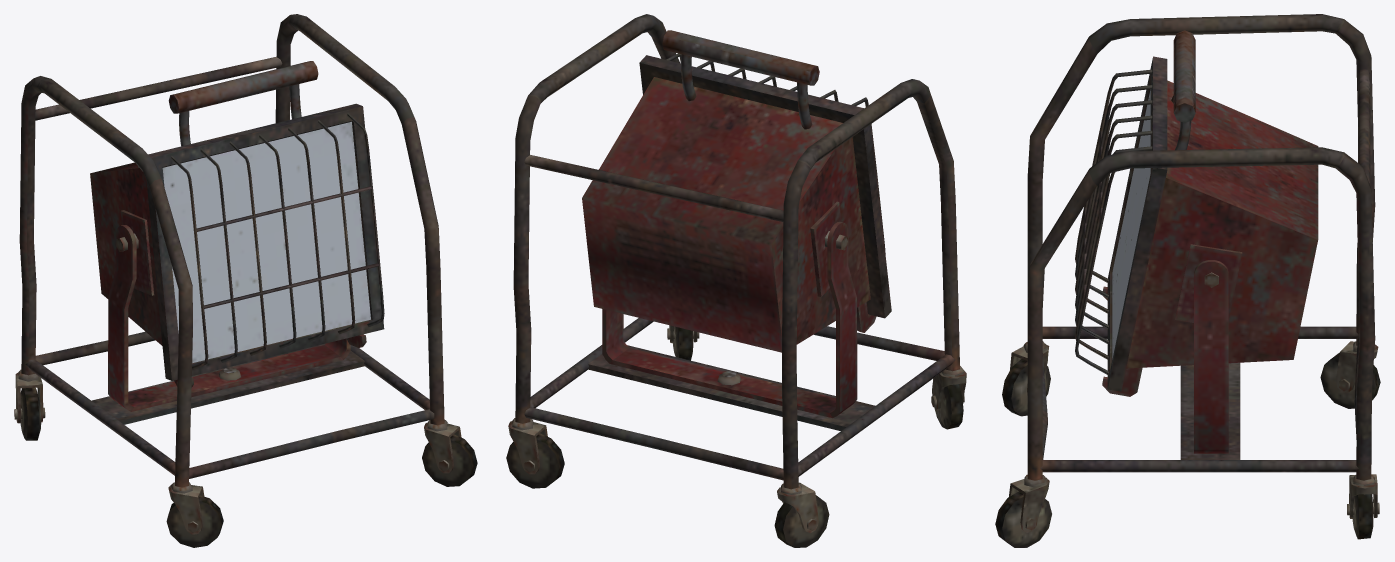
Rendered from sm35_018_floodlight01a.fbx.
3 renders of one model, left to right at view 1: azimuth 30°, elevation 25°; view 2: azimuth 150°, elevation 25°; view 3: azimuth 270°, elevation 25°, orthographic. The views are drawn at different scales.
Parts seen in each view (by area): view 1: LOD_1_Group_0_Sub_1__sm35_018_FloodLight01A_A_Mat, LOD_1_Group_2_Sub_1__sm35_018_FloodLight01A_A_Mat__Env_Emiss; view 2: LOD_1_Group_0_Sub_1__sm35_018_FloodLight01A_A_Mat; view 3: LOD_1_Group_0_Sub_1__sm35_018_FloodLight01A_A_Mat, LOD_1_Group_2_Sub_1__sm35_018_FloodLight01A_A_Mat__Env_Emiss.
Boxes of the visible parts, x1,y1,x2,y2 form: LOD_1_Group_0_Sub_1__sm35_018_FloodLight01A_A_Mat: [14, 14, 477, 547]; LOD_1_Group_2_Sub_1__sm35_018_FloodLight01A_A_Mat__Env_Emiss: [162, 121, 370, 362]; LOD_1_Group_0_Sub_1__sm35_018_FloodLight01A_A_Mat: [506, 14, 966, 547]; LOD_1_Group_0_Sub_1__sm35_018_FloodLight01A_A_Mat: [995, 14, 1380, 547]; LOD_1_Group_2_Sub_1__sm35_018_FloodLight01A_A_Mat__Env_Emiss: [1112, 89, 1150, 359].
Size of the model in its own units: 0.6863 by 0.8412 by 0.7152.
